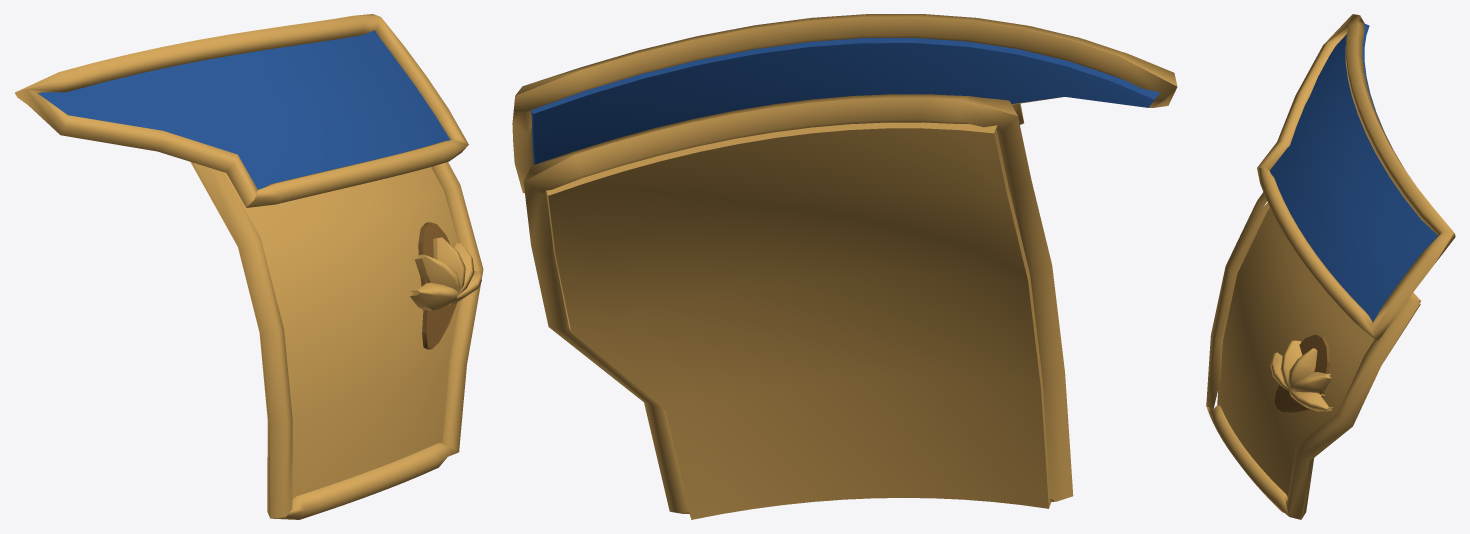
Rendered from shoulder-armour-far.glb.
3 renders of one model, left to right at view 1: azimuth 30°, elevation 25°; view 2: azimuth 150°, elevation 25°; view 3: azimuth 270°, elevation 25°, orthographic. The views are drawn at different scales.
Visible parts, largest first — view 1: OriginalLeftShoulderArmour; view 2: OriginalLeftShoulderArmour; view 3: OriginalLeftShoulderArmour.
Part boxes in pixels (box(x1,y1,x2,y2)): OriginalLeftShoulderArmour: box(15, 14, 483, 519); OriginalLeftShoulderArmour: box(512, 14, 1177, 519); OriginalLeftShoulderArmour: box(1206, 14, 1455, 519).
Size of the model in its own units: 0.1072 by 0.0984 by 0.062.
